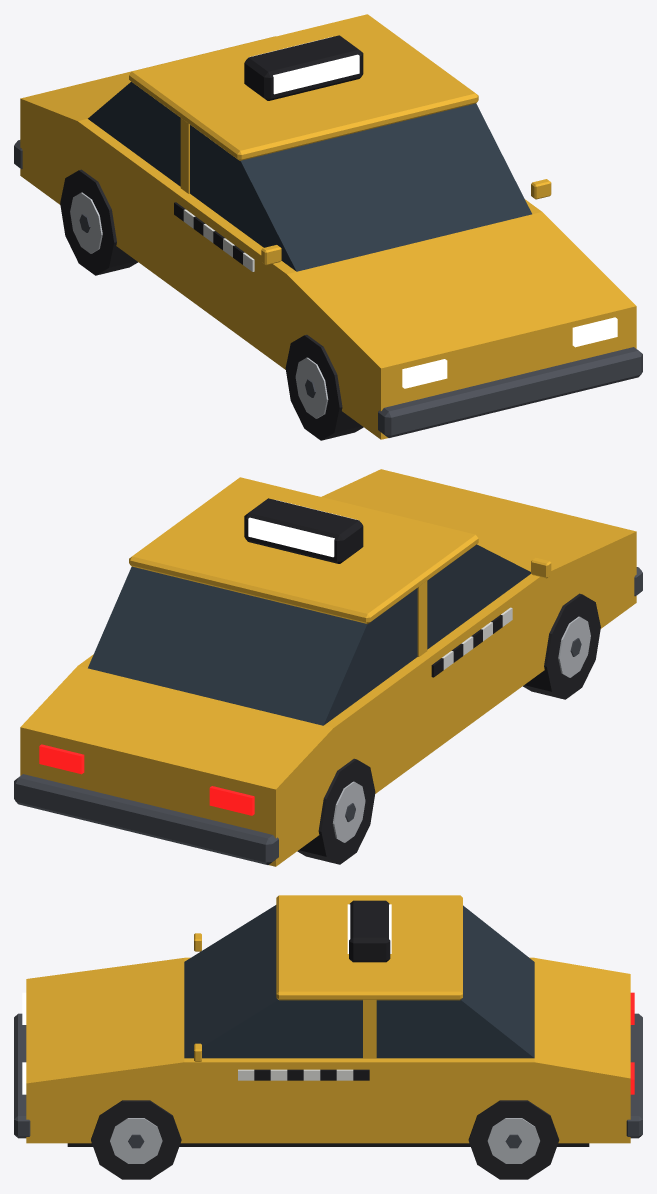
File: Car_Taxi.glb
The picture shows the model from 3 angles, top to bottom: view 1: azimuth 30°, elevation 25°; view 2: azimuth 150°, elevation 25°; view 3: azimuth 270°, elevation 25°; orthographic projection. The views are drawn at different scales.
Visible parts, largest first — view 1: Car_Taxi, Car_Taxi_Wheel_FL, Car_Taxi_Wheel_RL; view 2: Car_Taxi, Car_Taxi_Wheel_RL, Car_Taxi_Wheel_FL; view 3: Car_Taxi, Car_Taxi_Wheel_FR, Car_Taxi_Wheel_RR.
Boxes of the visible parts, x1,y1,x2,y2 form: Car_Taxi: [14, 14, 642, 439]; Car_Taxi_Wheel_FL: [285, 334, 363, 440]; Car_Taxi_Wheel_RL: [60, 169, 137, 275]; Car_Taxi: [14, 469, 642, 866]; Car_Taxi_Wheel_RL: [297, 758, 375, 864]; Car_Taxi_Wheel_FL: [523, 593, 600, 699]; Car_Taxi: [14, 895, 642, 1146]; Car_Taxi_Wheel_FR: [91, 1100, 181, 1179]; Car_Taxi_Wheel_RR: [468, 1100, 559, 1179].
Size of the model in its own units: 2.02 by 1.66 by 4.58.
1 material, 1 textured.
